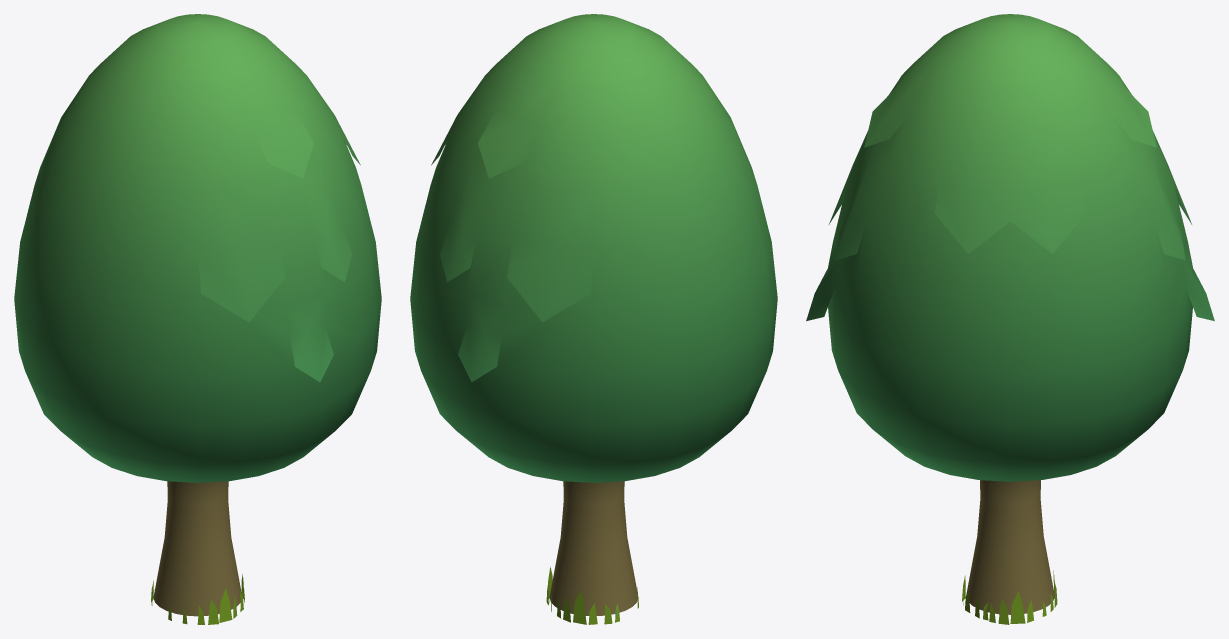
The model's file is tree.fbx.
The picture shows the model from 3 angles, left to right: view 1: azimuth 30°, elevation 25°; view 2: azimuth 150°, elevation 25°; view 3: azimuth 270°, elevation 25°; orthographic projection.
Visible parts, largest first — view 1: Object001; view 2: Object001; view 3: Object001.
Boxes of the visible parts, <box> form: Object001: <box>14,14,381,624</box>; Object001: <box>410,14,777,624</box>; Object001: <box>806,14,1214,624</box>.
Bounding box in the file's own units: 43.66 × 76.29 × 48.68.
